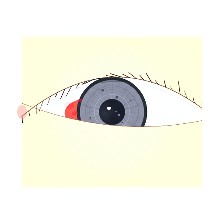hemorrhage_spot: (55, 86, 123, 140)
